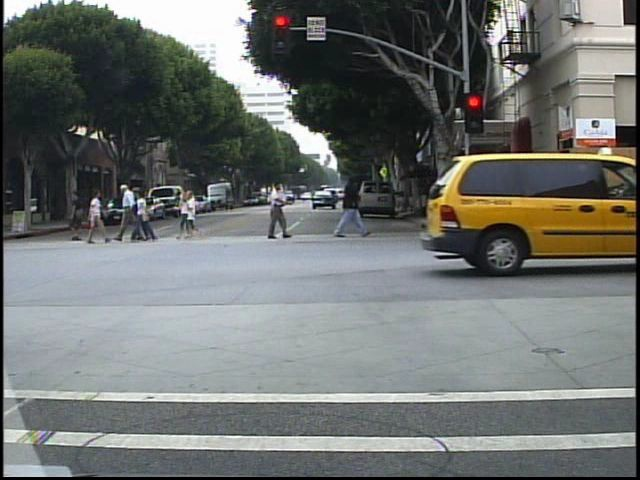person: (331, 163, 375, 245), (80, 187, 111, 250), (260, 181, 289, 239), (132, 187, 153, 245), (66, 186, 88, 241), (121, 179, 138, 245), (141, 184, 142, 243)
